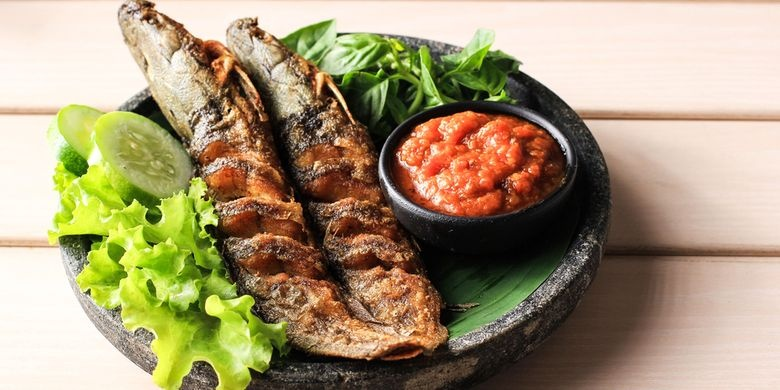pecel_lele: (97, 3, 460, 368), (214, 15, 450, 357)
